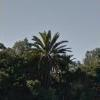Palm tree: (20, 17, 76, 99)
